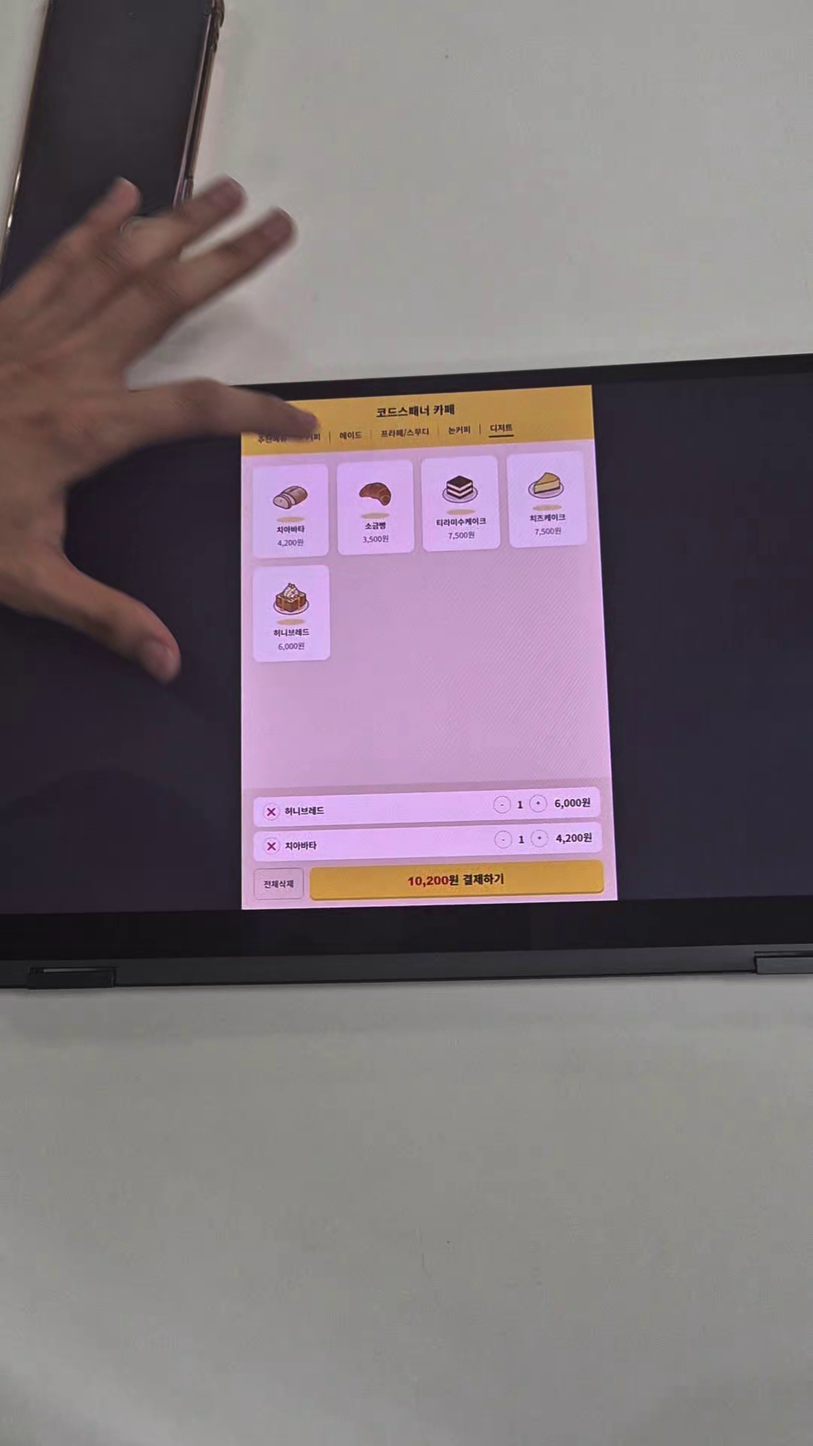action_button: (309, 859, 606, 901), (254, 867, 304, 900)
cart_item: (253, 786, 601, 828), (253, 822, 603, 862)
category_tab: (381, 427, 431, 439), (448, 424, 472, 436), (337, 430, 363, 441), (489, 422, 514, 433)
menu_back: (506, 450, 588, 548), (421, 455, 501, 552), (252, 564, 331, 662), (337, 460, 415, 556), (253, 464, 329, 558)
menu_name: (435, 516, 488, 528), (283, 805, 326, 817), (272, 627, 311, 638), (285, 840, 317, 852), (529, 513, 566, 523), (276, 524, 306, 535), (363, 521, 387, 531)
menu_price: (552, 797, 593, 809), (555, 832, 595, 844), (277, 641, 306, 651), (361, 534, 390, 544), (447, 530, 476, 540), (533, 526, 562, 536), (276, 538, 304, 548)
